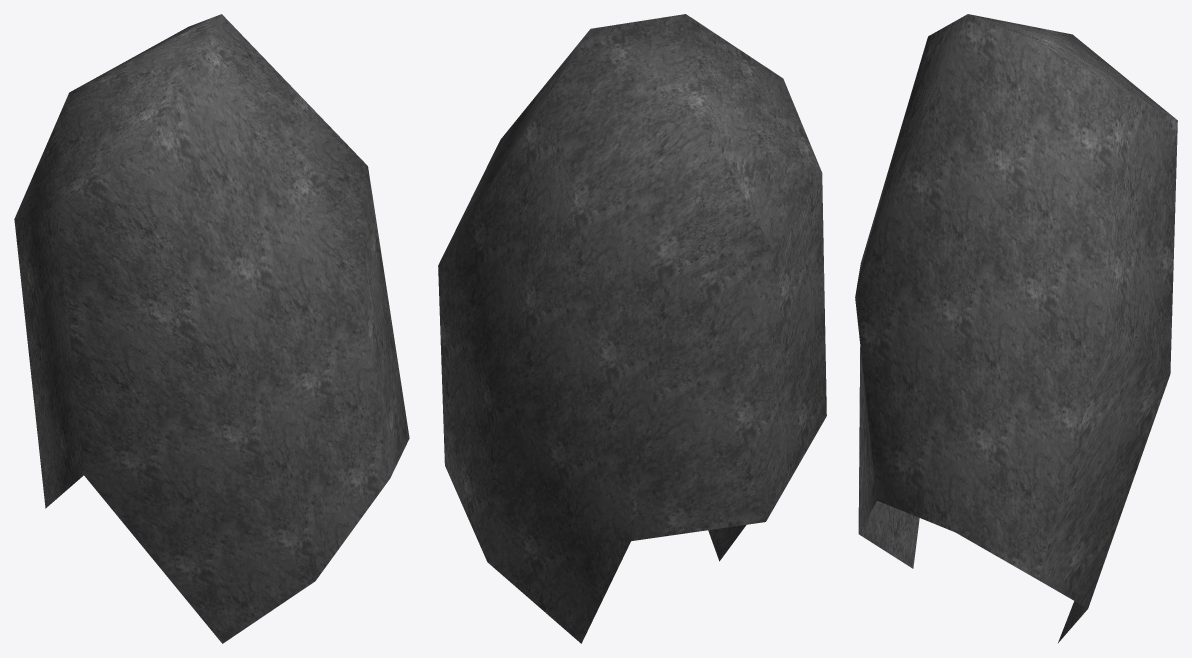
Rendered from rock.FBX.
3 views of the same model, side by side, from view 1: azimuth 30°, elevation 25°; view 2: azimuth 150°, elevation 25°; view 3: azimuth 270°, elevation 25° (orthographic).
Parts seen in each view (by area): view 1: rocher; view 2: rocher; view 3: rocher.
Boxes of the visible parts, x1,y1,x2,y2 form: rocher: [14, 14, 409, 643]; rocher: [438, 14, 826, 643]; rocher: [855, 14, 1177, 642].
Size of the model in its own units: 178 by 301 by 146.
